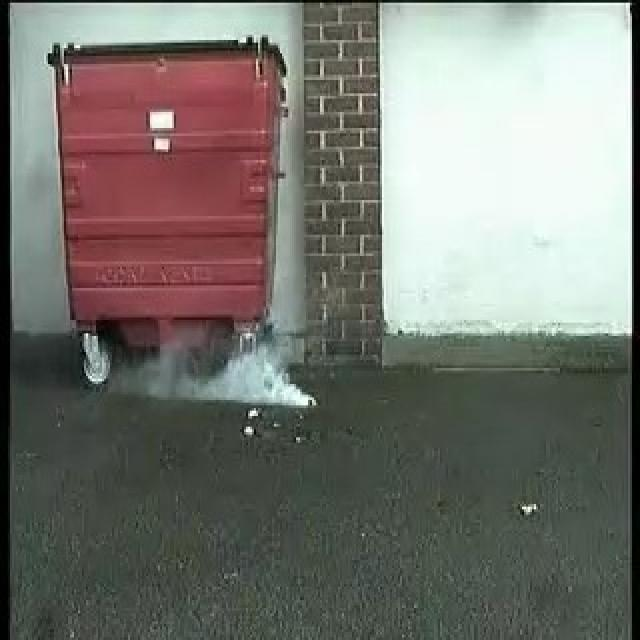smoke: (115, 328, 316, 406)
